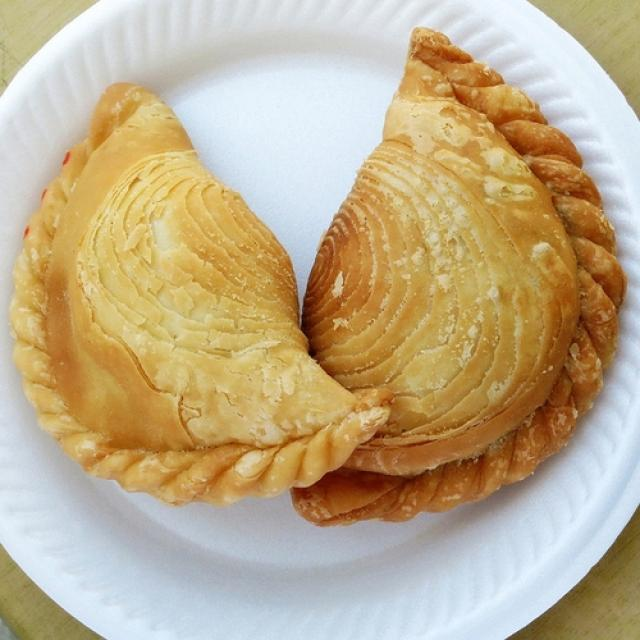炸货点心: (11, 18, 630, 562)
